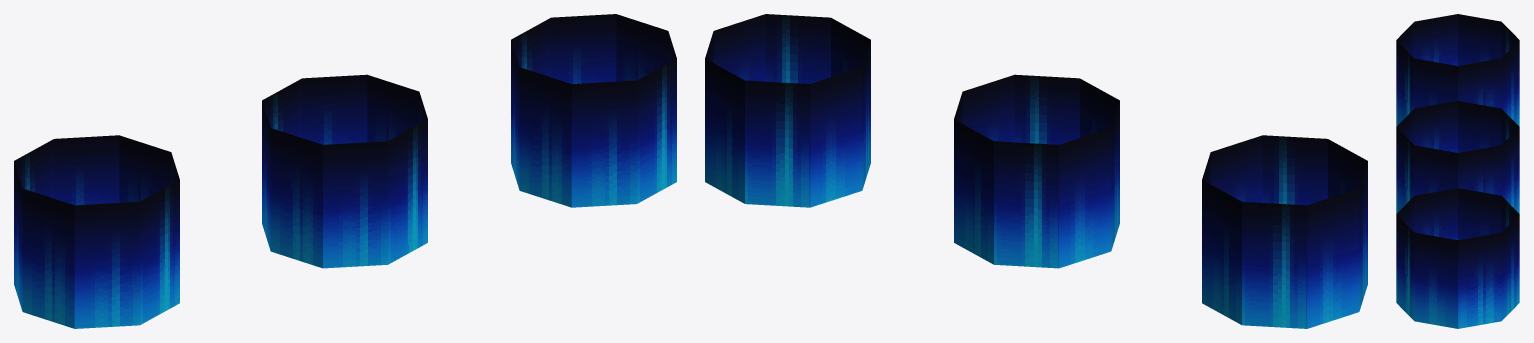
Rendered from effect.obj.
3 renders of one model, left to right at view 1: azimuth 30°, elevation 25°; view 2: azimuth 150°, elevation 25°; view 3: azimuth 270°, elevation 25°, orthographic. The views are drawn at different scales.
Visible parts, largest first — view 1: obj1, obj3, obj2; view 2: obj1, obj3, obj2; view 3: obj3, obj2, obj1.
Part boxes in pixels (x1=…): obj1: x1=14, y1=135, x2=179, y2=328; obj3: x1=511, y1=14, x2=676, y2=207; obj2: x1=262, y1=74, x2=427, y2=268; obj1: x1=1202, y1=135, x2=1367, y2=328; obj3: x1=705, y1=14, x2=870, y2=207; obj2: x1=954, y1=74, x2=1119, y2=268; obj3: x1=1396, y1=188, x2=1519, y2=328; obj2: x1=1396, y1=101, x2=1519, y2=213; obj1: x1=1396, y1=14, x2=1519, y2=126.
Bounding box in the file's own units: 52.09 × 9.53 × 12.
